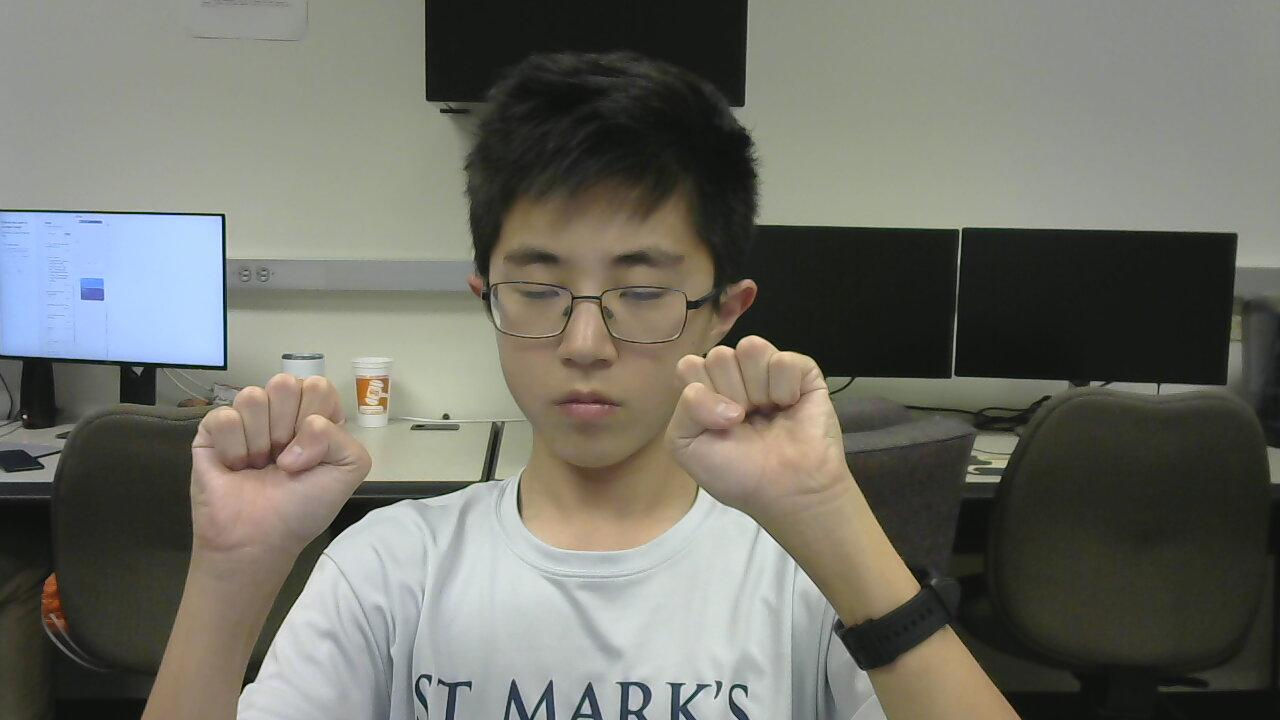fist: (156, 357, 397, 558), (673, 327, 879, 556)
